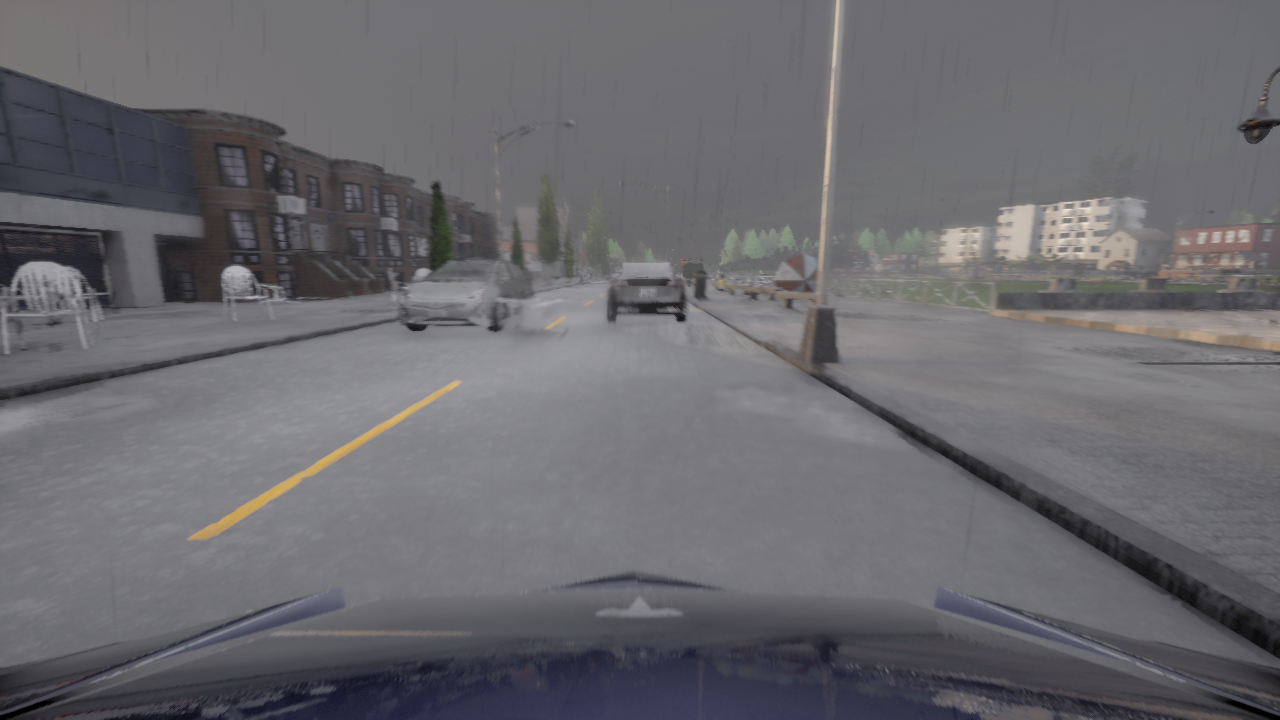cyclist: (0, 569, 1279, 719), (399, 258, 535, 332), (605, 261, 687, 322)
pedestrian: (717, 274, 726, 300)
